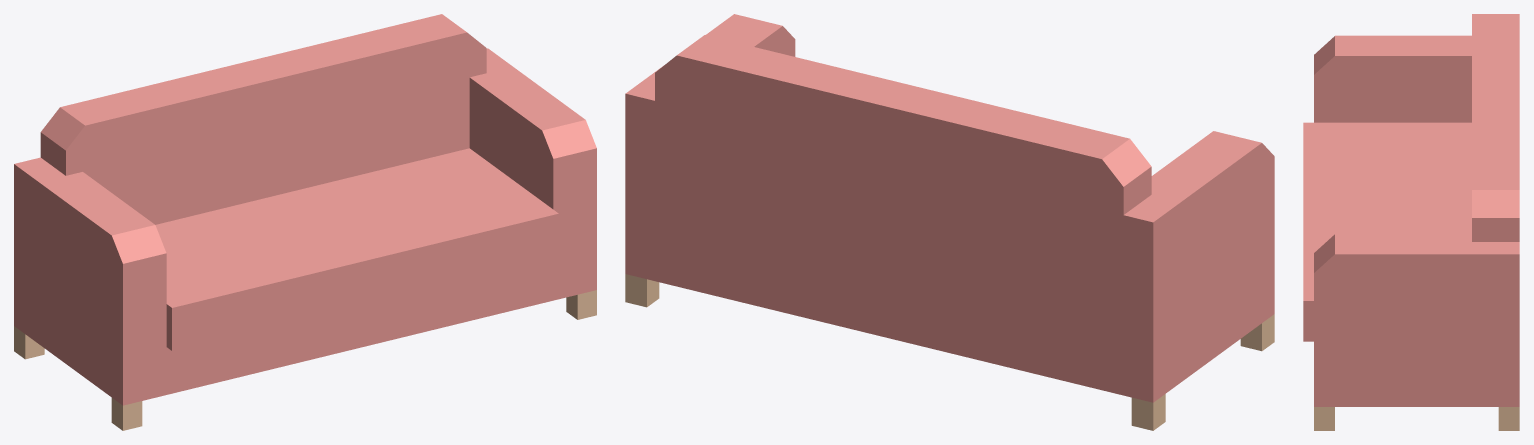
File: loungeSofa.glb
3 renders of one model, left to right at view 1: azimuth 30°, elevation 25°; view 2: azimuth 150°, elevation 25°; view 3: azimuth 270°, elevation 25°, orthographic. The views are drawn at different scales.
Visible parts, largest first — view 1: loungeSofa(Clone); view 2: loungeSofa(Clone); view 3: loungeSofa(Clone).
Boxes of the visible parts, x1,y1,x2,y2 form: loungeSofa(Clone): (14, 14, 596, 430); loungeSofa(Clone): (625, 14, 1274, 430); loungeSofa(Clone): (1303, 14, 1519, 430).
Size of the model in its own units: 0.98 by 0.46 by 0.41.
